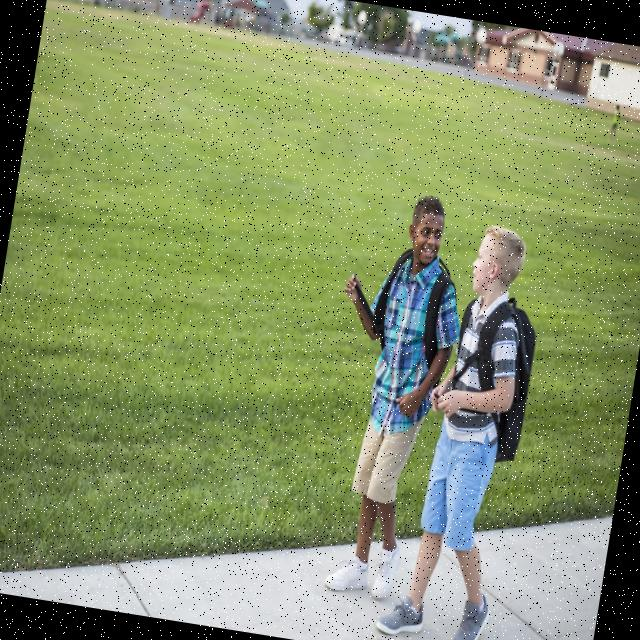Person: (298, 186, 480, 604), (374, 217, 553, 640)
